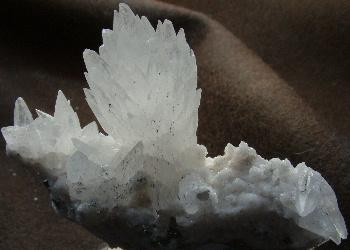calcite: (1, 4, 347, 244)
